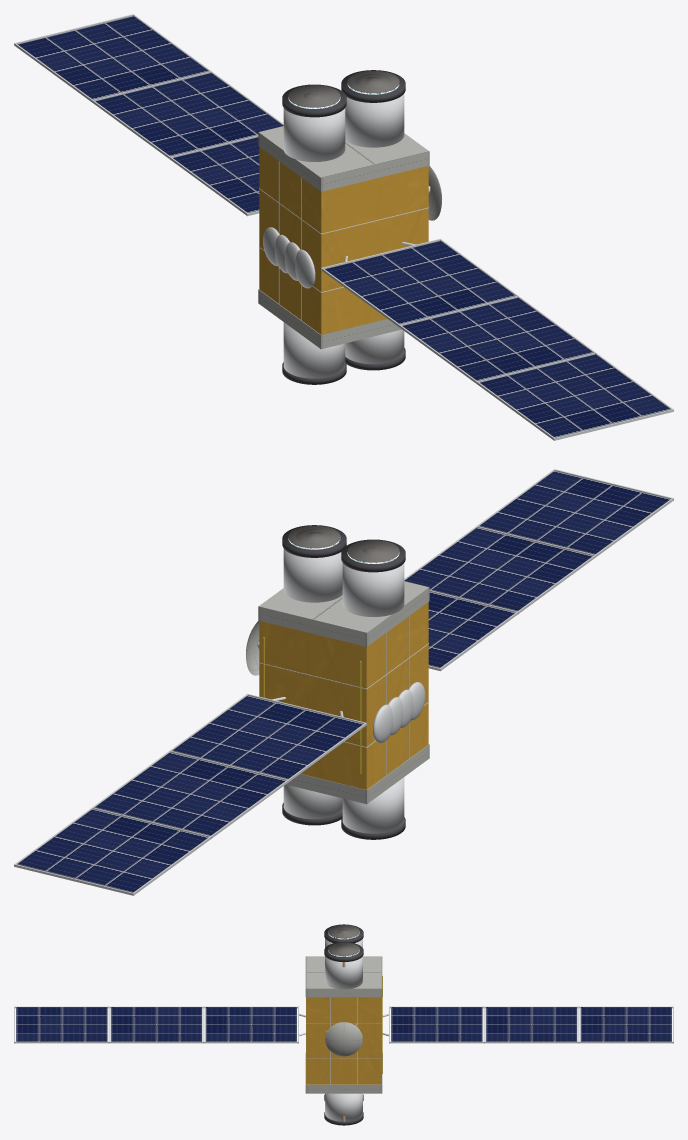
File: ion.glb
3 views of the same model, one above another, from view 1: azimuth 30°, elevation 25°; view 2: azimuth 150°, elevation 25°; view 3: azimuth 270°, elevation 25° (orthographic). The views are drawn at different scales.
Parts seen in each view (by area): view 1: Cube, Cube.009, Cube.007, Cube.011, Cube.020, Cube.018, Cube.005, Cube.016, Cylinder, Cylinder.007, Cylinder.014, Cube.006 (+8 smaller); view 2: Cube, Cube.018, Cube.016, Cube.020, Cube.011, Cube.009, Cube.005, Cube.007, Cylinder, Cylinder.007, Cylinder.014, Cube.006 (+7 smaller); view 3: Cube, Cube.009, Cube.018, Cube.007, Cube.011, Cube.016, Cube.020, Cube.005, Cylinder.007, Sphere, Cylinder.021, Cube.024 (+5 smaller).
Part boxes in pixels (box(x1,y1,x2,y2)): Cube: box(259, 147, 428, 334); Cube.009: box(402, 297, 592, 380); Cube.007: box(325, 240, 515, 324); Cube.011: box(479, 354, 670, 437); Cube.020: box(18, 16, 208, 99); Cube.018: box(95, 72, 283, 156); Cube.005: box(258, 126, 429, 191); Cube.016: box(172, 137, 259, 212); Cylinder: box(283, 108, 345, 161); Cylinder.007: box(345, 93, 404, 147); Cylinder.014: box(283, 322, 345, 378); Cube.006: box(258, 289, 401, 349); Cube: box(259, 602, 428, 789); Cube.018: box(95, 752, 285, 835); Cube.016: box(172, 695, 362, 779); Cube.020: box(17, 809, 208, 892); Cube.011: box(479, 471, 669, 554); Cube.009: box(404, 527, 592, 611); Cube.005: box(258, 581, 429, 646); Cube.007: box(428, 592, 515, 667); Cylinder: box(342, 563, 404, 616); Cylinder.007: box(283, 548, 342, 602); Cylinder.014: box(342, 777, 404, 833); Cube.006: box(286, 744, 429, 804); Cube: box(306, 997, 381, 1084); Cube.009: box(110, 1007, 202, 1041); Cube.018: box(485, 1007, 577, 1041); Cube.007: box(205, 1007, 296, 1041); Cube.011: box(16, 1007, 107, 1041); Cube.016: box(391, 1007, 482, 1041); Cube.020: box(580, 1007, 671, 1041); Cube.005: box(305, 956, 382, 997); Cylinder.007: box(325, 956, 362, 989); Sphere: box(325, 1022, 362, 1056); Cylinder.021: box(325, 1093, 362, 1121); Cube.024: box(390, 1041, 673, 1043).
Bounding box in the file's own units: 2.8 × 4.94 × 17.42.
Materials: 10 (3 with a texture image).
